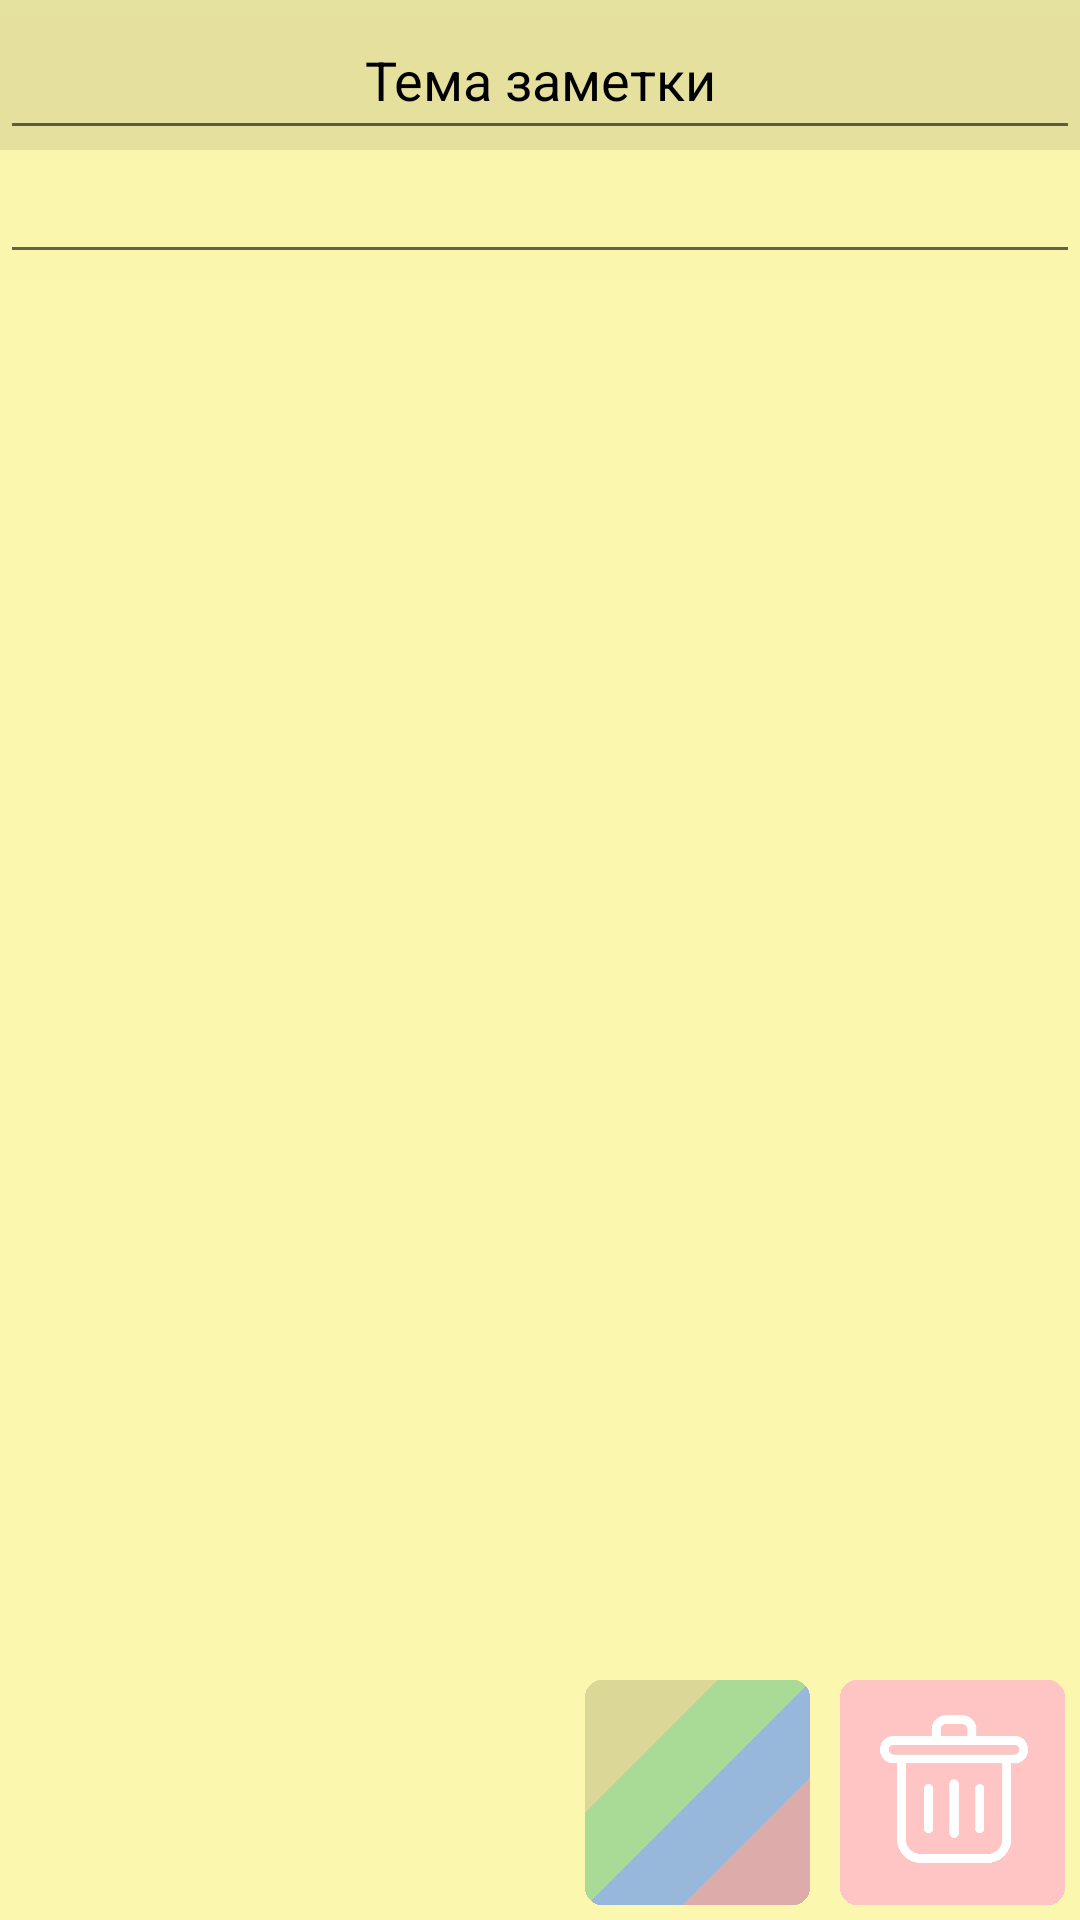

Screen size 1080px×1920px. Icon name, then its box in pixels as (x1, y1, x2, y2):
colorbtn: (585, 1680, 810, 1905)
deletebtn: (840, 1680, 1065, 1905)
